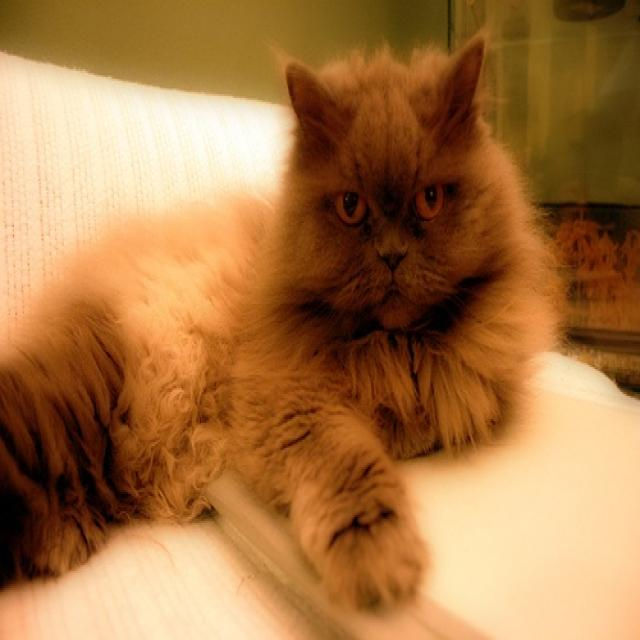cat: (0, 12, 566, 624)
